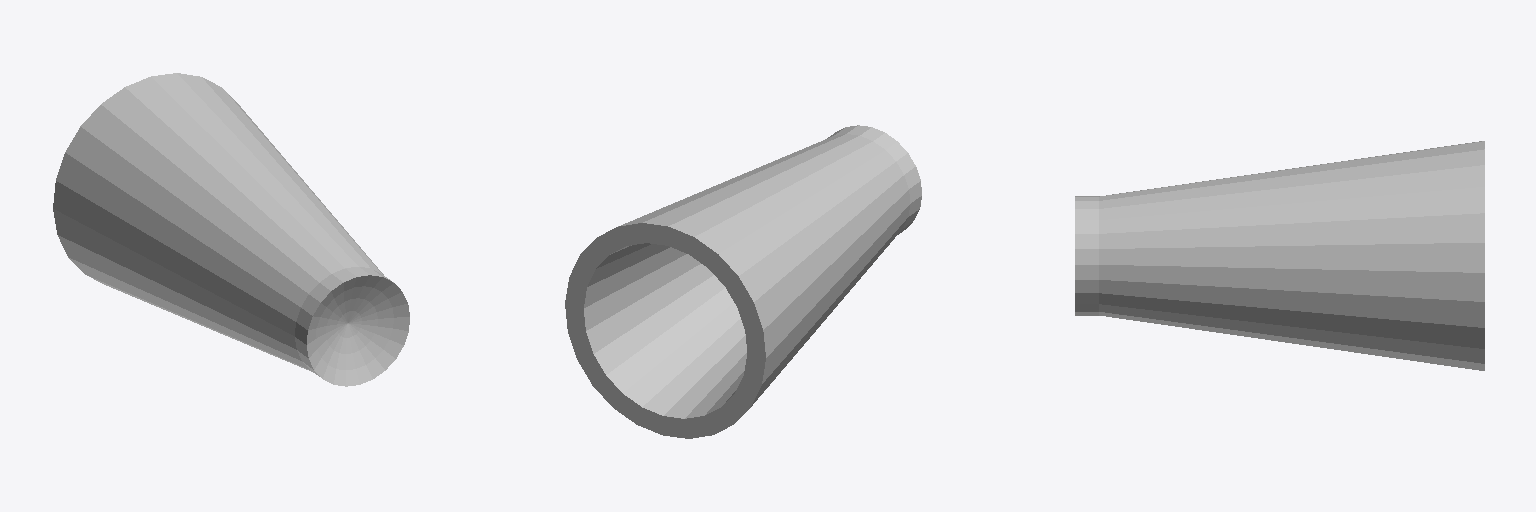
File: cup_0004_origin_transform.obj
3 views of the same model, side by side, from view 1: azimuth 30°, elevation 25°; view 2: azimuth 150°, elevation 25°; view 3: azimuth 270°, elevation 25° (orthographic).
Size of the model in its own units: 0.085 by 0.085 by 0.15.